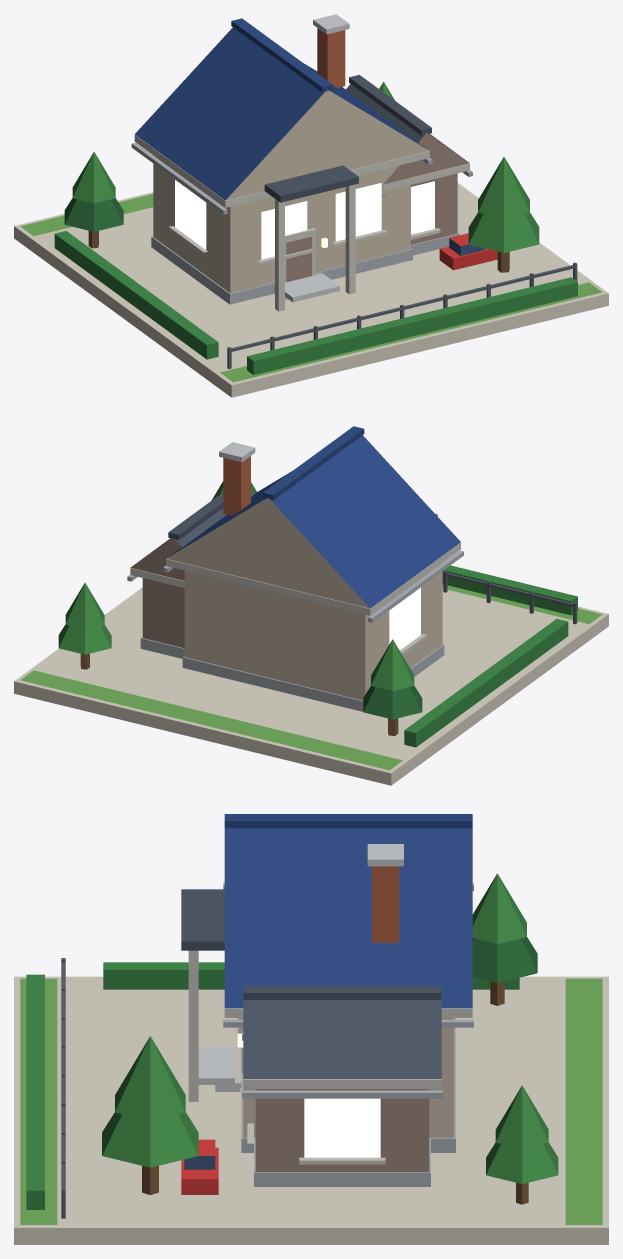
3 renders of one model, top to bottom at view 1: azimuth 30°, elevation 25°; view 2: azimuth 150°, elevation 25°; view 3: azimuth 270°, elevation 25°, orthographic. The views are drawn at different scales.
Visible parts, largest first — view 1: b01; view 2: b01; view 3: b01.
Boxes of the visible parts, x1,y1,x2,y2 form: b01: (14, 14, 608, 397); b01: (14, 426, 608, 785); b01: (14, 814, 608, 1244).
Bounding box in the file's own units: 0.96 × 0.532 × 0.96.
